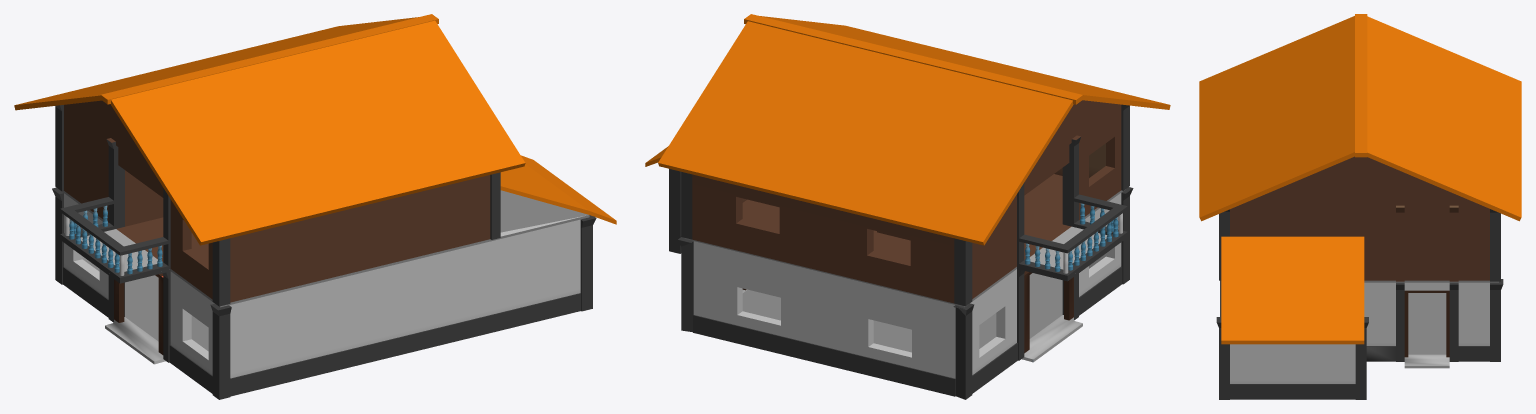
The model's file is SM_Lao_House_Two_Floor 2.fbx.
3 views of the same model, side by side, from view 1: azimuth 30°, elevation 25°; view 2: azimuth 150°, elevation 25°; view 3: azimuth 270°, elevation 25° (orthographic). The views are drawn at different scales.
Parts seen in each view (by area): view 1: Roof_Mash, Main_Floor_1_Mash, Main_Floor_2_Mash; view 2: Roof_Mash, Main_Floor_1_Mash, Main_Floor_2_Mash; view 3: Roof_Mash, Main_Floor_2_Mash, Main_Floor_1_Mash.
Boxes of the visible parts, box(x1,y1,x2,y2) form: Roof_Mash: box(14, 14, 525, 245); Main_Floor_1_Mash: box(52, 187, 596, 399); Main_Floor_2_Mash: box(55, 105, 616, 307); Roof_Mash: box(658, 14, 1170, 245); Main_Floor_1_Mash: box(669, 169, 1133, 399); Main_Floor_2_Mash: box(645, 104, 1129, 307); Roof_Mash: box(1199, 14, 1521, 221); Main_Floor_2_Mash: box(1219, 205, 1500, 344); Main_Floor_1_Mash: box(1216, 279, 1503, 399).
Bounding box in the file's own units: 9.93 × 5.37 × 7.19.
